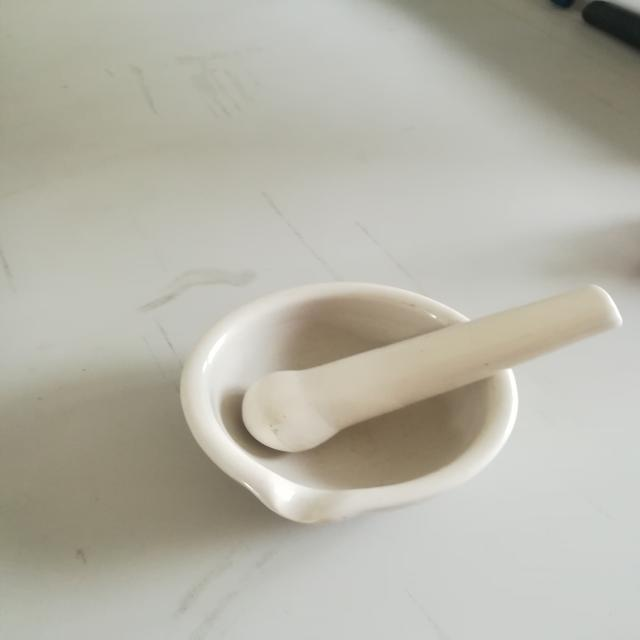Porcelain_Mortar Pestle: (138, 223, 640, 559)
